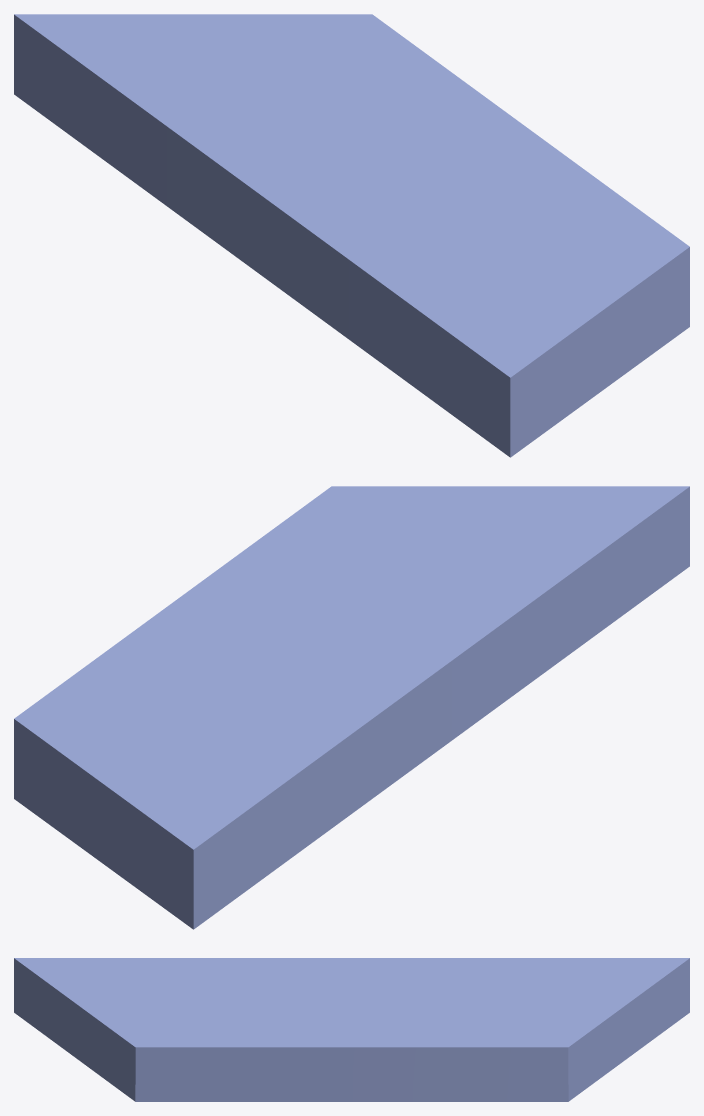
The model's file is chairColBottom2_1.fbx.
3 renders of one model, top to bottom at view 1: azimuth 30°, elevation 25°; view 2: azimuth 150°, elevation 25°; view 3: azimuth 270°, elevation 25°, orthographic. The views are drawn at different scales.
Parts seen in each view (by area): view 1: chairColBottom2_1; view 2: chairColBottom2_1; view 3: chairColBottom2_1.
Part boxes in pixels (left/top/right/bottom): chairColBottom2_1: left=14, top=14, right=689, bottom=457; chairColBottom2_1: left=14, top=486, right=689, bottom=929; chairColBottom2_1: left=14, top=958, right=689, bottom=1101.
Size of the model in its own units: 1.13 by 0.322 by 3.62.
